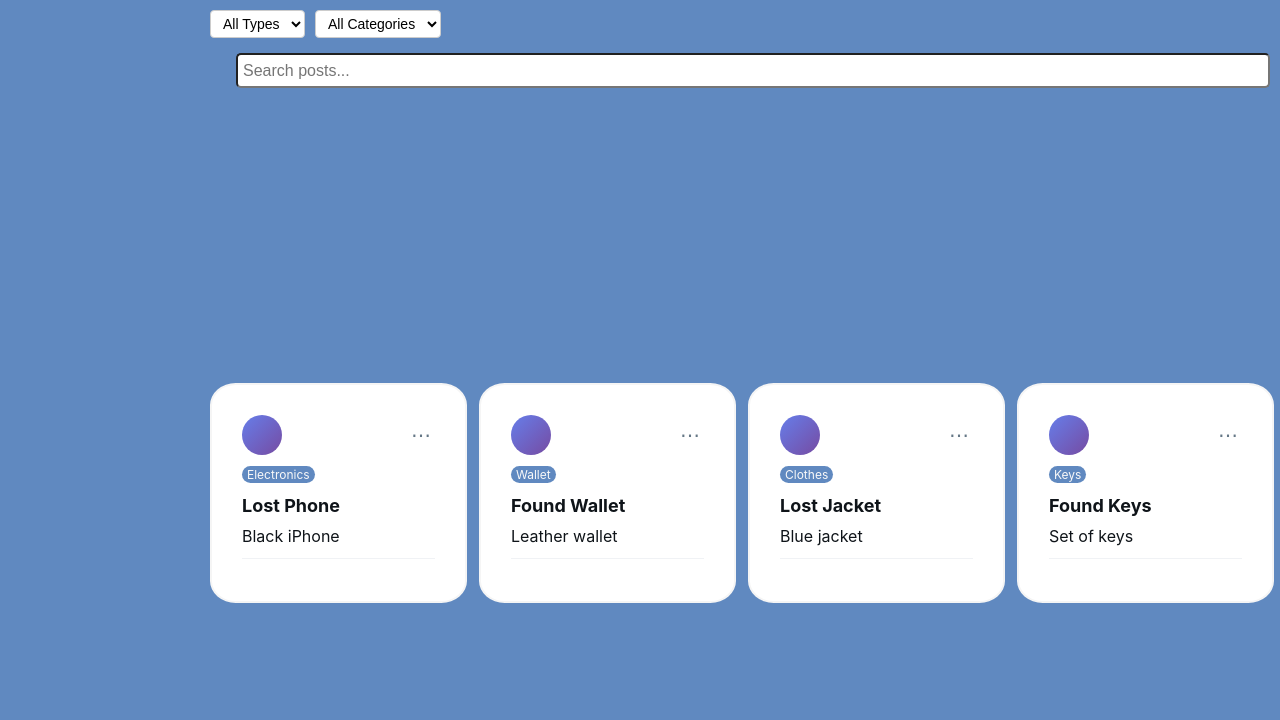
it: Search page › filters posts by type
Expected: the heading "Lost Phone" is shown, [242,495,340,516]
Select "Found" in the 1st dropdown at point(258, 24), box [210,10,305,38]
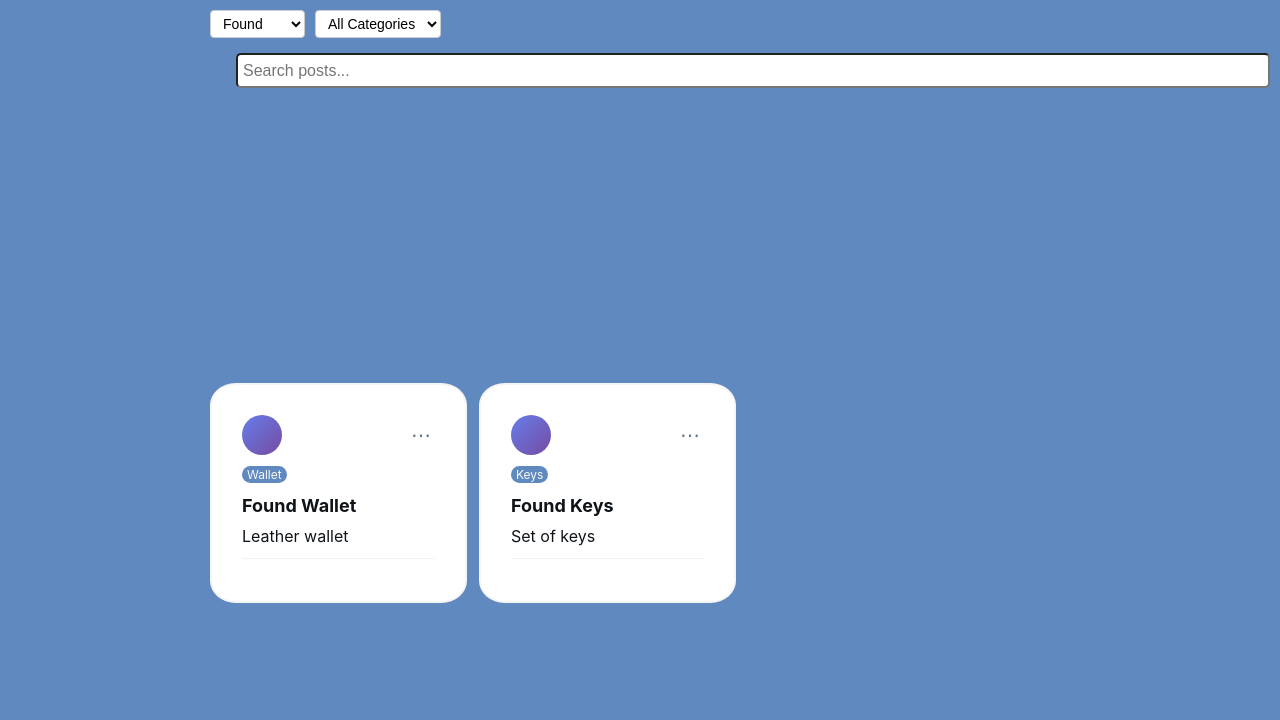
Expected: the heading "Found Wallet" is shown, [242,495,356,516]
Now the heading "Lost Phone" is gone
